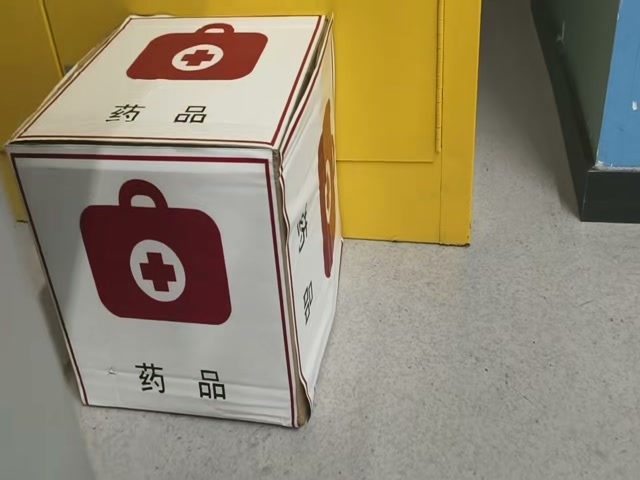Cube_medicine: (7, 16, 331, 156)
